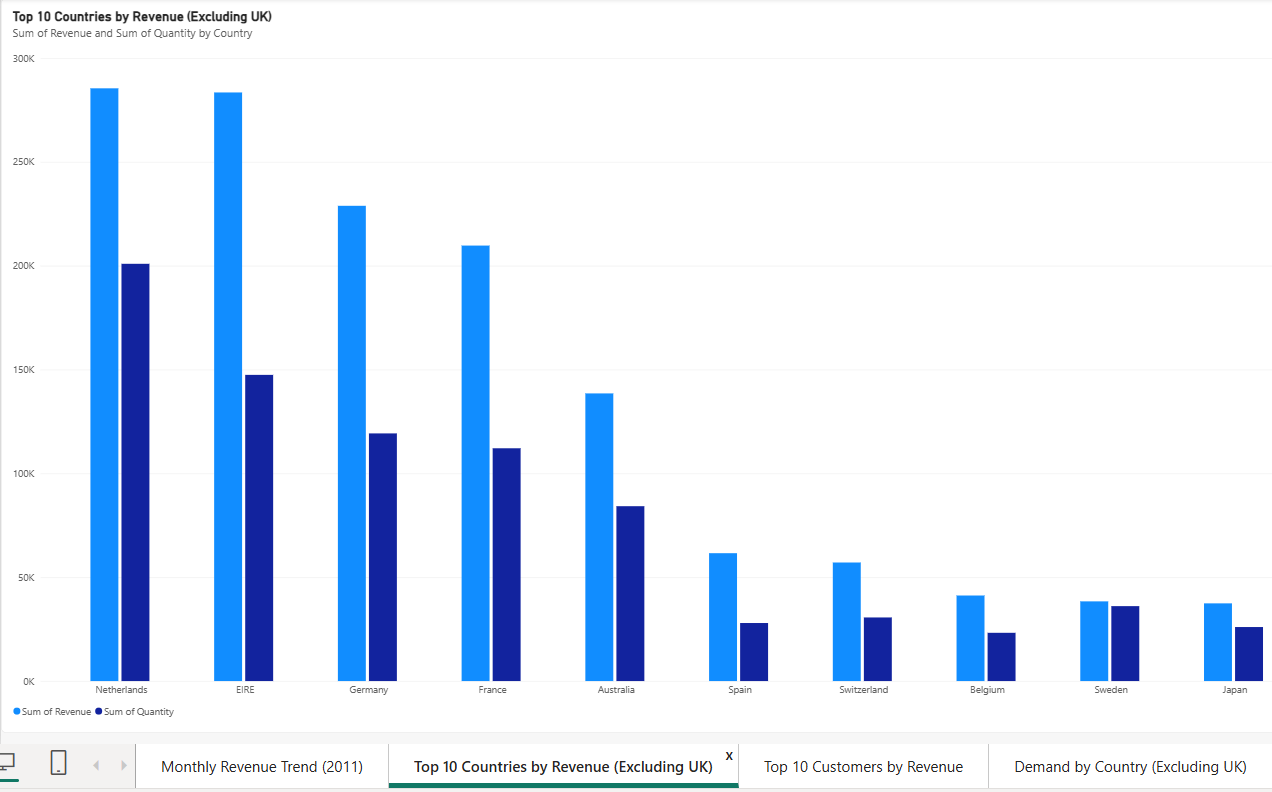

What the dashboard file says about the page in this screenshot:
{"tool":"powerbi","page":{"name":"Top 10  Countries by Revenue (Excluding UK)","canvas":[1920,1080],"ordinal":1},"visuals":[{"type":"clusteredColumnChart","title":"Top 10  Countries by Revenue (Excluding UK)","fields":{"Category":["Online Retail Data Set.Country"],"Y":["Sum(Online Retail Data Set.Revenue)","Sum(Online Retail Data Set.Quantity)"]},"box":[0,0,1920.1,1064.1],"z":0}]}

Visuals, with their boxes on the page's 1920x1080 design canvas (x1, y1, x2, y2). These are canvas units, not pixel positions in the 1272x792 screenshot, which may show the page scaled, cropped or inside an application window:
"Top 10  Countries by Revenue (Excluding UK)" clusteredColumnChart: <region>0, 0, 1920, 1064</region>
